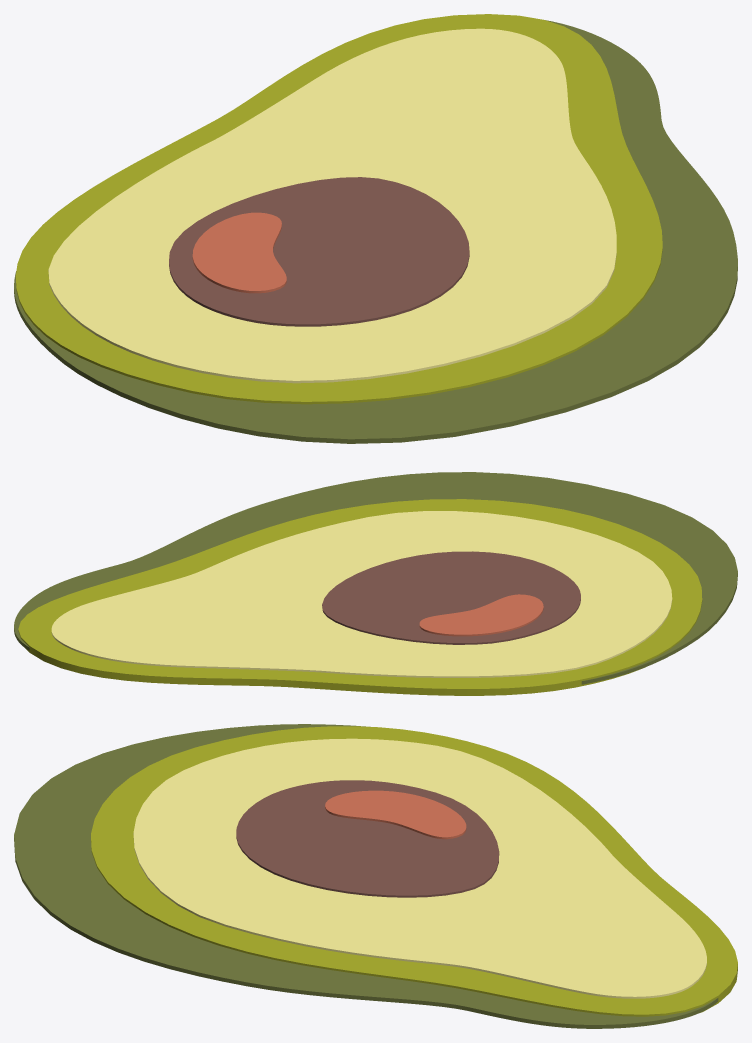
Rendered from emoji_u1f951.glb.
The picture shows the model from 3 angles, top to bottom: view 1: azimuth 30°, elevation 25°; view 2: azimuth 150°, elevation 25°; view 3: azimuth 270°, elevation 25°; orthographic projection. The views are drawn at different scales.
Visible parts, largest first — view 1: emoji_u1f951; view 2: emoji_u1f951; view 3: emoji_u1f951.
Boxes of the visible parts, box(x1,y1,x2,y2) form: emoji_u1f951: box(14, 14, 737, 443); emoji_u1f951: box(14, 472, 737, 695); emoji_u1f951: box(14, 724, 737, 1028).
Bounding box in the file's own units: 0.0329 × 0.001 × 0.0335.
